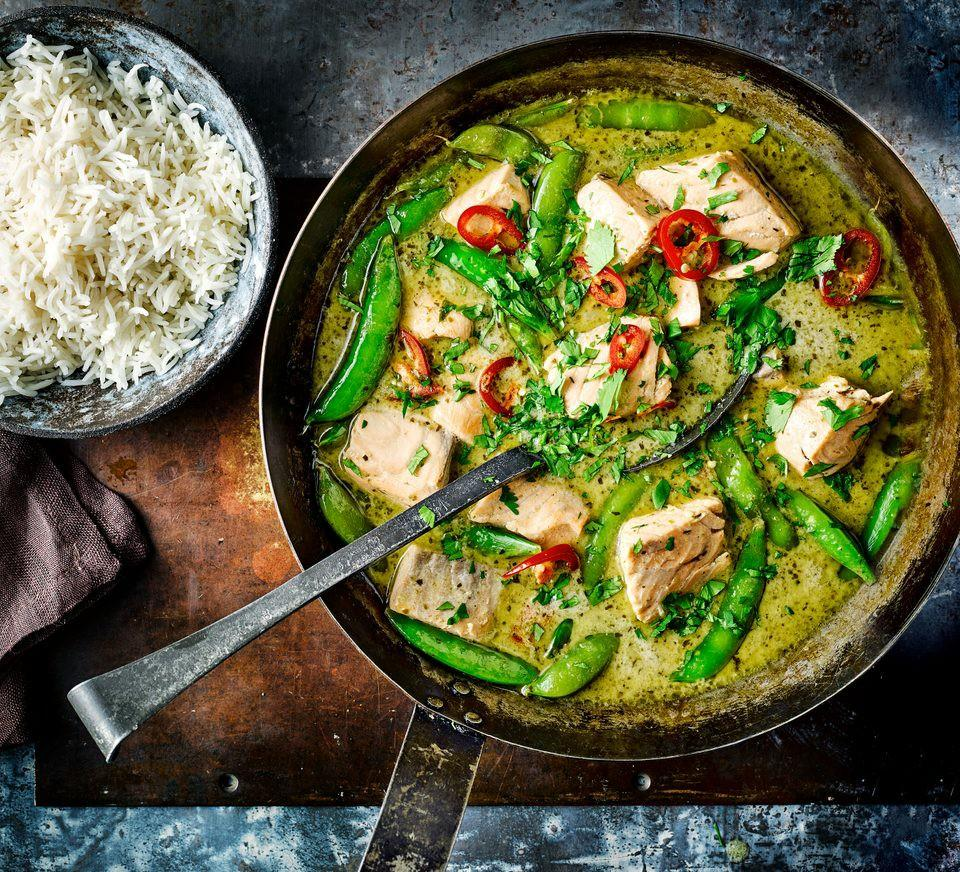FishCurry: (321, 87, 930, 702)
WhiteRice: (1, 35, 257, 403)
